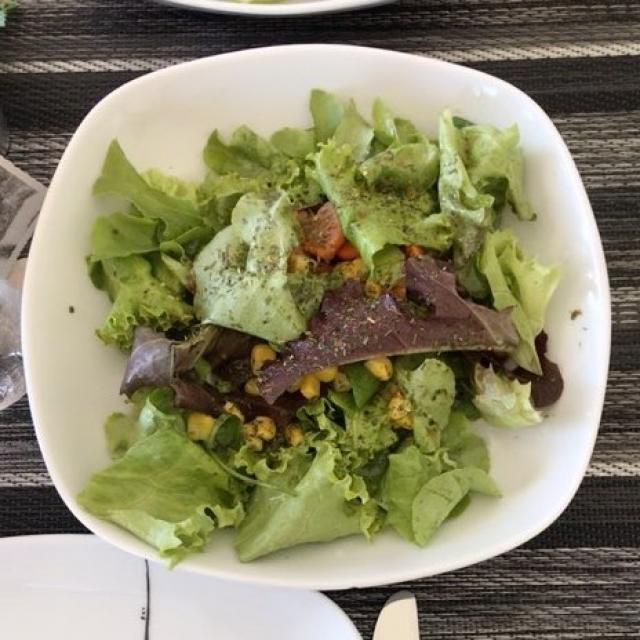salad: (90, 103, 552, 546)
sweet-corn-canned: (183, 354, 392, 449)
tomato: (300, 203, 346, 264)
